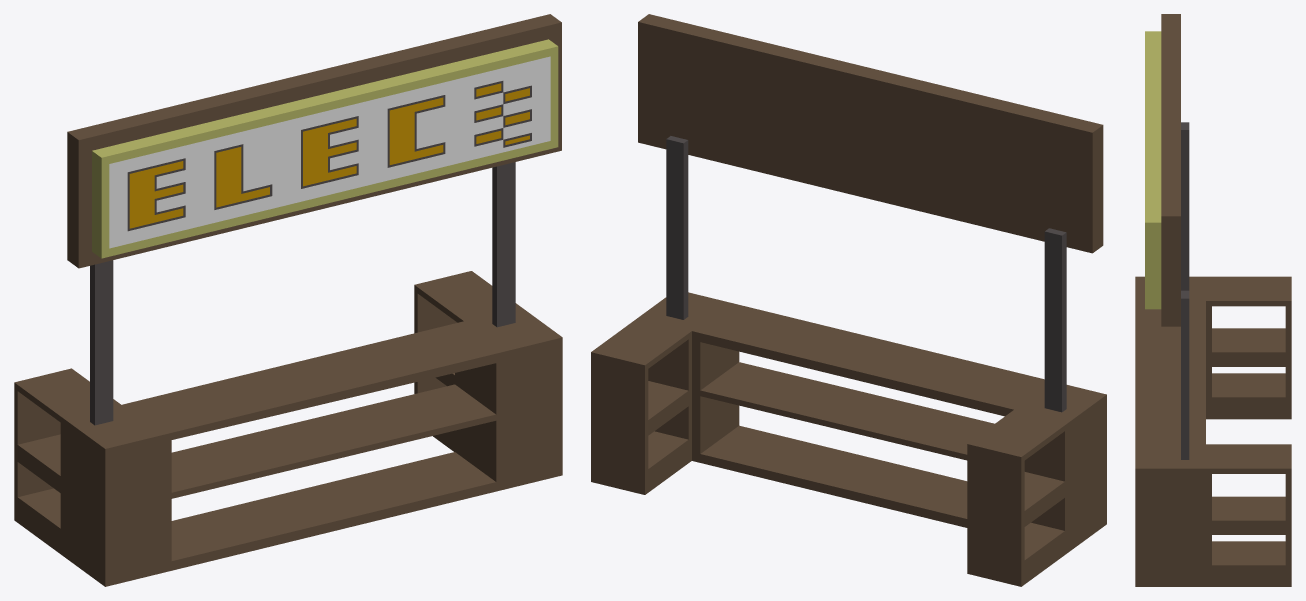
File: Mesa Electronicos Mediana.fbx
3 renders of one model, left to right at view 1: azimuth 30°, elevation 25°; view 2: azimuth 150°, elevation 25°; view 3: azimuth 270°, elevation 25°, orthographic. The views are drawn at different scales.
Parts seen in each view (by area): view 1: Estante_M, Letrero_Elec_5, Palo_1, Palo_2; view 2: Estante_M, Letrero_Elec_5, Palo_1, Palo_2; view 3: Estante_M, Letrero_Elec_5, Palo_2, Palo_1.
Part boxes in pixels (x1,y1,x2,y2): Estante_M: (14, 271, 562, 586); Letrero_Elec_5: (67, 14, 561, 268); Palo_1: (90, 260, 113, 425); Palo_2: (492, 162, 515, 327); Estante_M: (591, 292, 1106, 586); Letrero_Elec_5: (638, 14, 1103, 253); Palo_1: (1044, 228, 1066, 412); Palo_2: (666, 136, 688, 319); Estante_M: (1135, 276, 1291, 586); Letrero_Elec_5: (1145, 14, 1180, 326); Palo_2: (1181, 290, 1189, 459); Palo_1: (1181, 122, 1189, 290).
Bounding box in the file's own units: 5.36 × 4.65 × 1.75.
